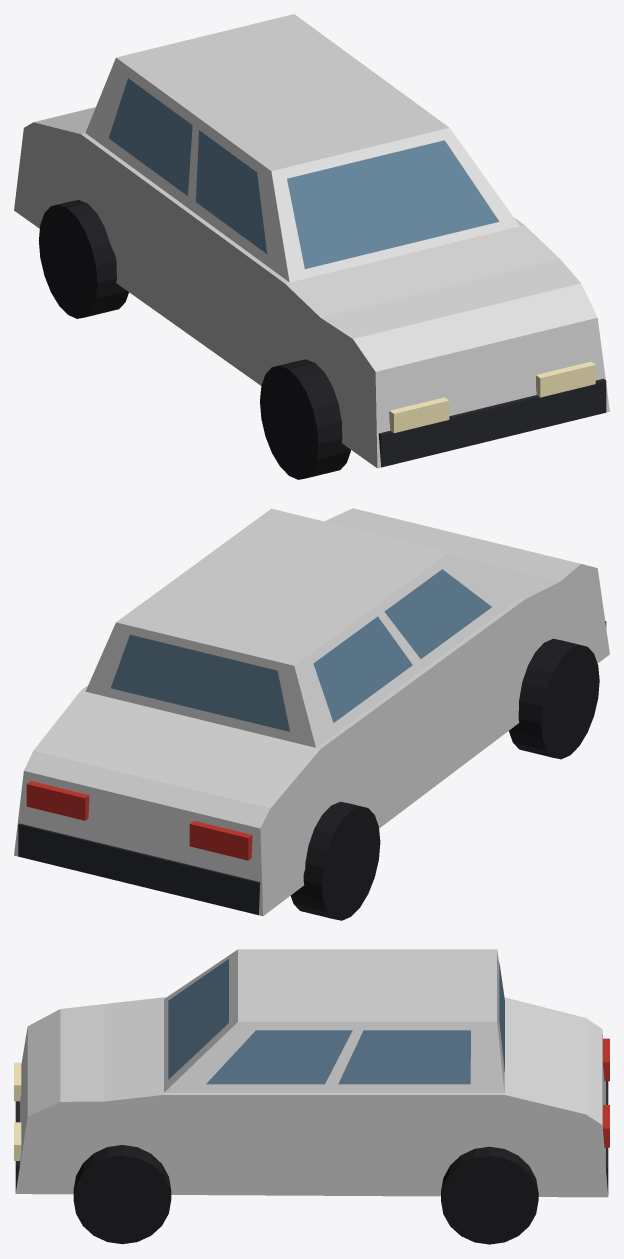
File: saloon.glb
3 views of the same model, one above another, from view 1: azimuth 30°, elevation 25°; view 2: azimuth 150°, elevation 25°; view 3: azimuth 270°, elevation 25° (orthographic). The views are drawn at different scales.
Parts seen in each view (by area): view 1: body, cabin, glass_screen, wheel_1_L_tyre, bumper_nose, wheel_0_L_tyre, glass_side_0_L, glass_side_1_L, head_L, head_R; view 2: body, cabin, glass_back, bumper_tail, wheel_1_L_tyre, wheel_0_L_tyre, glass_side_0_L, glass_side_1_L, tail_R, tail_L; view 3: body, cabin, wheel_1_R_tyre, wheel_0_R_tyre, glass_side_0_R, glass_side_1_R, glass_screen, glass_back.
Boxes of the visible parts, left/top/right/bottom form: body: left=14, top=107, right=609, bottom=468; cabin: left=85, top=14, right=519, bottom=282; glass_screen: left=287, top=140, right=499, bottom=268; wheel_1_L_tyre: left=260, top=359, right=350, bottom=479; bumper_nose: left=378, top=378, right=606, bottom=467; wheel_0_L_tyre: left=39, top=200, right=128, bottom=318; glass_side_0_L: left=108, top=78, right=192, bottom=195; glass_side_1_L: left=196, top=130, right=266, bottom=253; head_L: left=389, top=397, right=449, bottom=433; head_R: left=536, top=361, right=595, bottom=397; body: left=14, top=508, right=609, bottom=916; cabin: left=85, top=508, right=519, bottom=747; glass_back: left=111, top=634, right=289, bottom=731; bumper_tail: left=18, top=823, right=260, bottom=915; wheel_1_L_tyre: left=509, top=638, right=599, bottom=759; wheel_0_L_tyre: left=290, top=801, right=380, bottom=920; glass_side_0_L: left=313, top=616, right=412, bottom=722; glass_side_1_L: left=384, top=569, right=491, bottom=658; tail_R: left=26, top=781, right=89, bottom=820; tail_L: left=189, top=821, right=252, bottom=860; body: left=15, top=997, right=608, bottom=1197; cabin: left=164, top=949, right=504, bottom=1092; wheel_1_R_tyre: left=73, top=1145, right=171, bottom=1244; wheel_0_R_tyre: left=441, top=1146, right=538, bottom=1244; glass_side_0_R: left=338, top=1030, right=470, bottom=1084; glass_side_1_R: left=206, top=1030, right=352, bottom=1084; glass_screen: left=168, top=959, right=228, bottom=1079; glass_back: left=499, top=962, right=504, bottom=1071.
Bounding box in the file's own units: 1.84 × 1.5 × 4.02.
